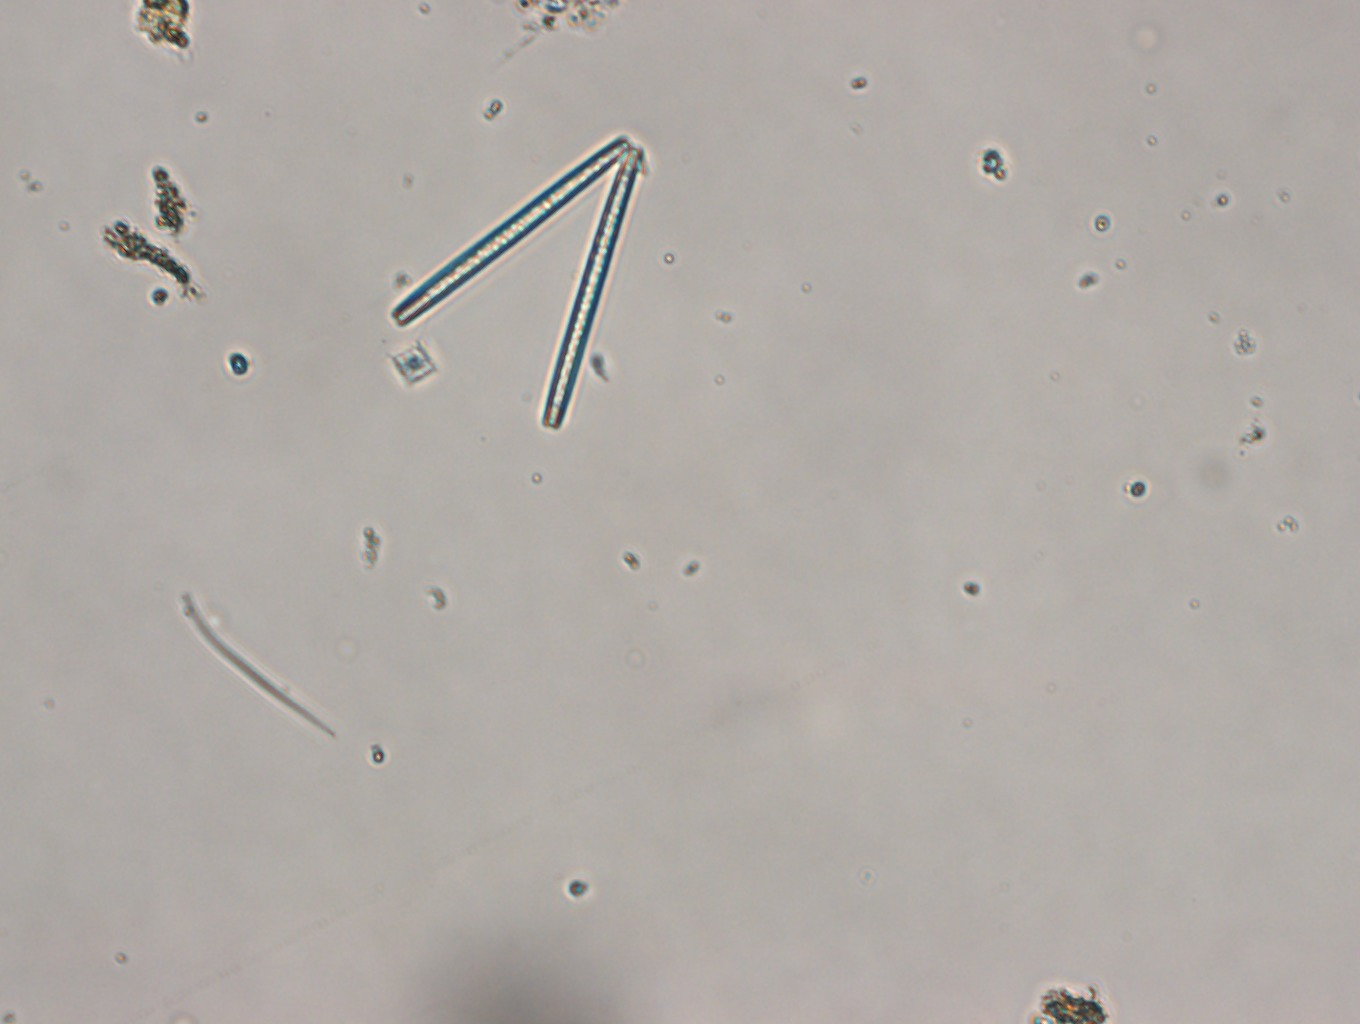thalassionema frauenfeldii: (385, 120, 664, 433)
